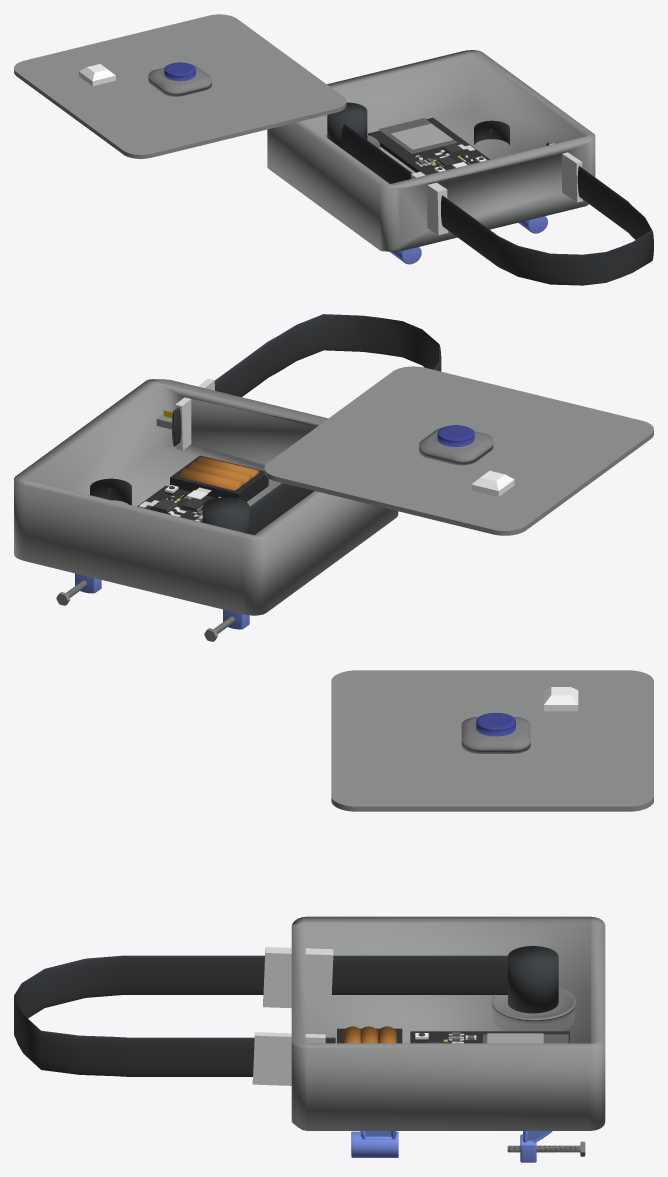
The model's file is strap_it.glb.
3 views of the same model, one above another, from view 1: azimuth 30°, elevation 25°; view 2: azimuth 150°, elevation 25°; view 3: azimuth 270°, elevation 25° (orthographic). The views are drawn at different scales.
Parts seen in each view (by area): view 1: 平面.037, 平面.005, 柱体.004, 平面.004, 平面.062, 柱体.001, 平面.007, 平面.002, 平面.001, 平面.006, 圆环, 平面.032; view 2: 平面.037, 平面.005, 柱体.004, 平面.062, 平面.063, 平面.030, 柱体.001, 圆环, 平面.032, 平面.001, 平面.004; view 3: 平面.037, 平面.005, 柱体.004, 平面.002, 柱体.001, 平面.062, 平面.001, 柱体, 平面.033, 平面.004, 平面.063, 平面.032.
Part boxes in pixels (bbox=[...]): 平面.037: bbox=[267, 50, 595, 251]; 平面.005: bbox=[14, 14, 346, 158]; 柱体.004: bbox=[342, 123, 653, 285]; 平面.004: bbox=[368, 117, 489, 175]; 平面.062: bbox=[148, 62, 211, 96]; 柱体.001: bbox=[327, 102, 367, 148]; 平面.007: bbox=[391, 123, 453, 149]; 平面.002: bbox=[410, 171, 447, 235]; 平面.001: bbox=[549, 143, 582, 202]; 平面.006: bbox=[378, 118, 457, 153]; 圆环: bbox=[474, 120, 509, 145]; 平面.032: bbox=[79, 64, 115, 86]; 平面.037: bbox=[14, 379, 398, 615]; 平面.005: bbox=[264, 366, 653, 535]; 柱体.004: bbox=[172, 314, 441, 534]; 平面.062: bbox=[419, 425, 493, 465]; 平面.063: bbox=[180, 456, 259, 490]; 平面.030: bbox=[170, 455, 268, 501]; 柱体.001: bbox=[202, 497, 249, 533]; 圆环: bbox=[90, 478, 131, 505]; 平面.032: bbox=[471, 470, 514, 496]; 平面.001: bbox=[175, 378, 214, 450]; 平面.004: bbox=[137, 485, 215, 522]; 平面.037: bbox=[291, 916, 605, 1130]; 平面.005: bbox=[331, 670, 653, 811]; 柱体.004: bbox=[14, 955, 507, 1076]; 平面.002: bbox=[263, 947, 333, 1009]; 柱体.001: bbox=[508, 946, 558, 1013]; 平面.062: bbox=[461, 713, 530, 753]; 平面.001: bbox=[252, 1032, 325, 1085]; 柱体: bbox=[491, 987, 575, 1031]; 平面.033: bbox=[351, 1131, 398, 1157]; 平面.004: bbox=[410, 1031, 569, 1043]; 平面.063: bbox=[343, 1026, 396, 1043]; 平面.032: bbox=[544, 687, 578, 711].
Bounding box in the file's own units: 2.99 × 1.26 × 2.9.
